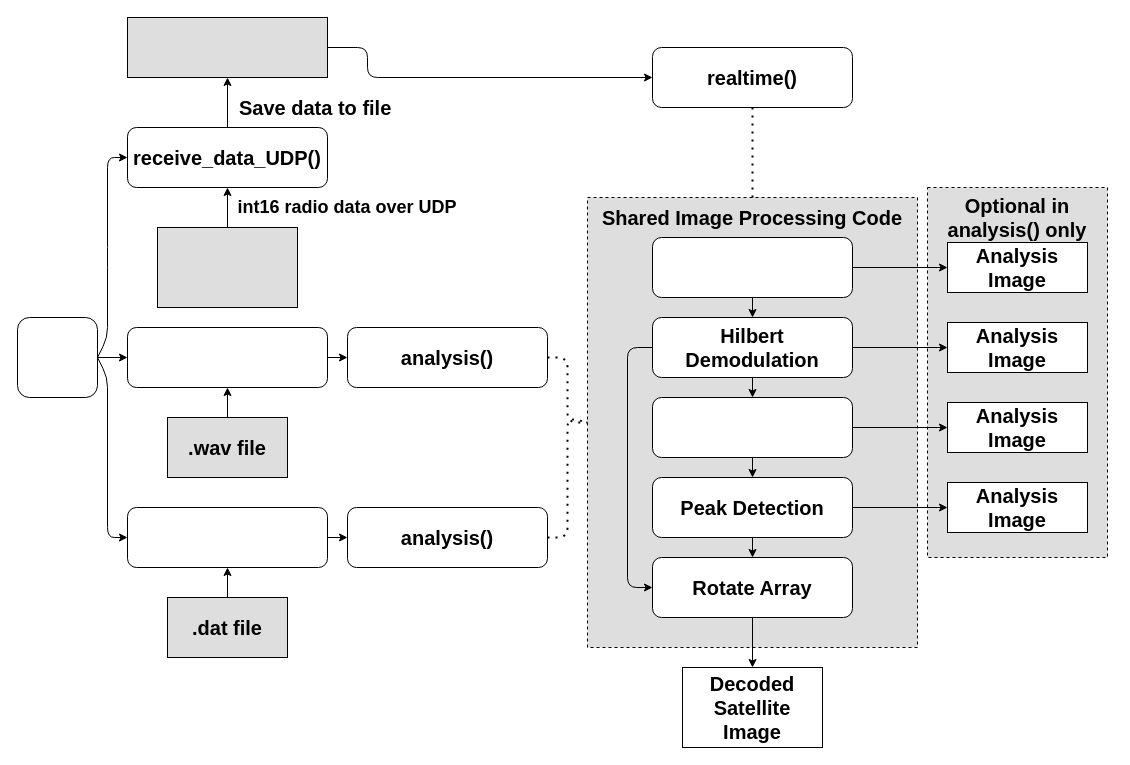
Some shapes in this 1130 by 765 pixel diagram are drawn without their labels. Each missing label, with the box of its shape:
GQRX Radio Capture Software: (156, 226, 298, 308)
Radio Capture Data File: (126, 16, 328, 78)
read_raw(): (126, 506, 328, 568)
read_wav(): (126, 326, 328, 388)
Resample to 12 kHz: (652, 236, 852, 298)
start.py: (16, 316, 98, 398)
Take Derivative of Signal: (652, 396, 852, 458)
